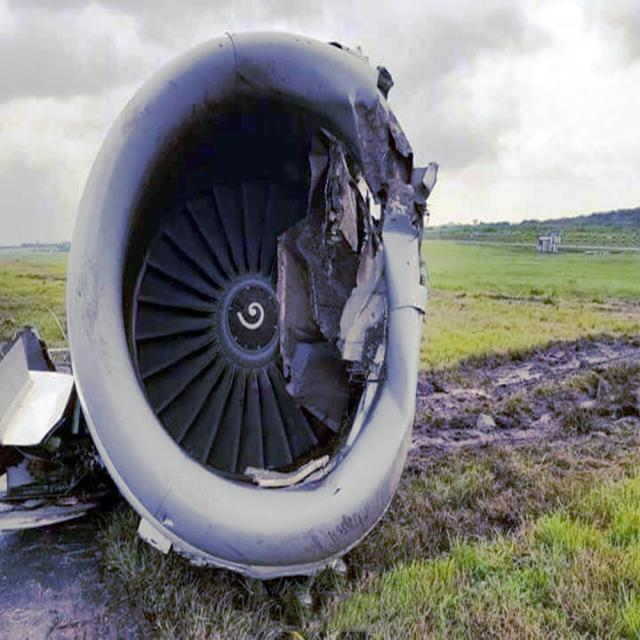dent: (367, 324, 423, 507), (383, 214, 416, 263)
